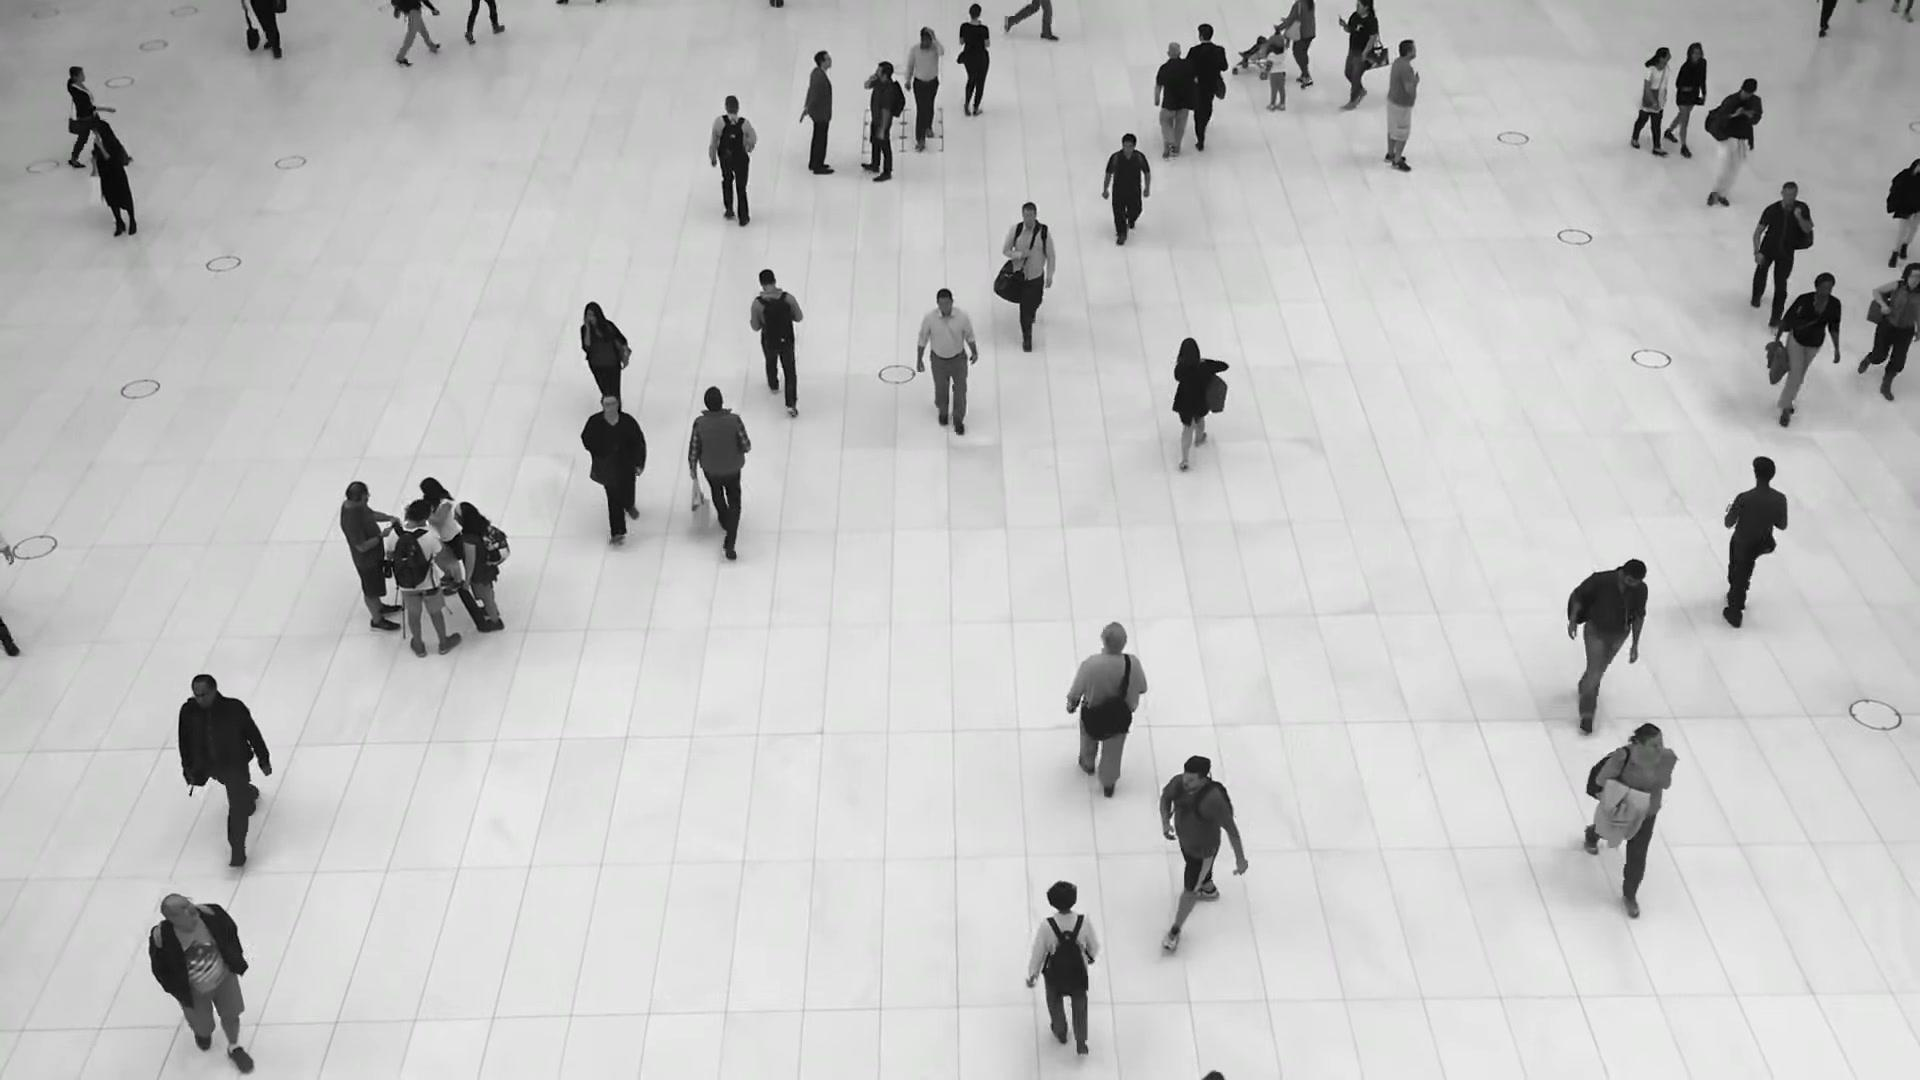person: (146, 892, 255, 1076), (1582, 719, 1676, 915), (177, 667, 265, 857), (1162, 753, 1241, 945), (1067, 623, 1148, 801), (1567, 558, 1648, 728), (1029, 885, 1101, 1068), (1714, 457, 1788, 625), (386, 500, 460, 658), (687, 386, 752, 560), (1767, 271, 1839, 424), (578, 389, 649, 538), (1748, 177, 1814, 322), (338, 480, 400, 632), (1855, 264, 1920, 406), (917, 288, 979, 435), (1003, 202, 1056, 353), (750, 266, 804, 413), (1702, 78, 1761, 213), (1169, 337, 1225, 467), (453, 501, 508, 633), (707, 97, 759, 229), (1100, 134, 1152, 250), (578, 299, 631, 407), (858, 60, 904, 183), (1184, 21, 1229, 147), (1152, 44, 1197, 167), (91, 119, 136, 237), (1382, 38, 1420, 173), (1335, 0, 1380, 112), (904, 23, 945, 143), (419, 476, 459, 597), (1665, 40, 1707, 155), (799, 50, 835, 175), (1631, 45, 1672, 153), (63, 64, 104, 161), (957, 6, 989, 123), (1277, 0, 1316, 91), (1262, 35, 1287, 111)
